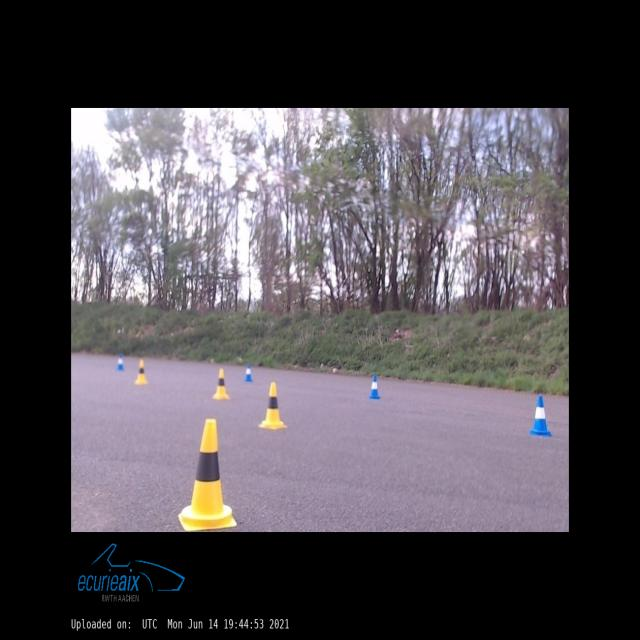blue_cone: (530, 396, 552, 436), (369, 374, 380, 398), (245, 363, 252, 381), (117, 354, 124, 370)
yellow_cone: (178, 419, 236, 531), (258, 382, 286, 429), (213, 368, 229, 398), (134, 358, 147, 384)
